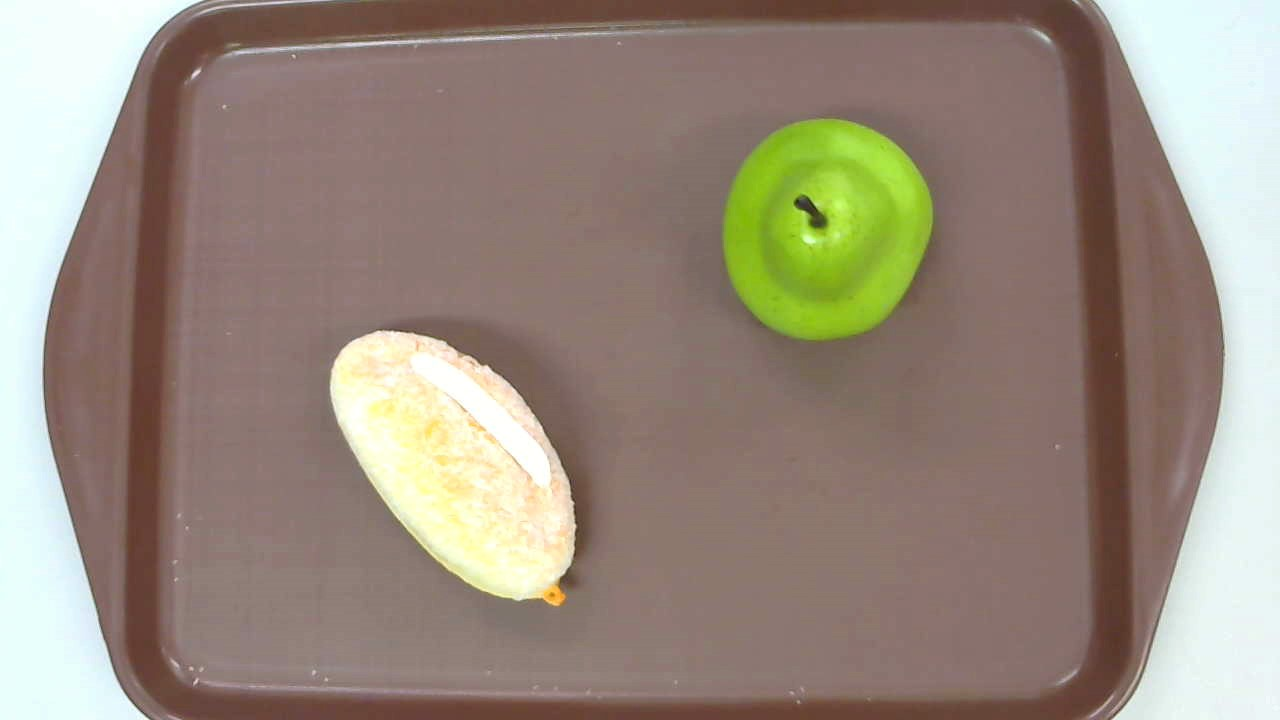coconut: (328, 330, 578, 608)
green pear: (722, 116, 932, 340)
